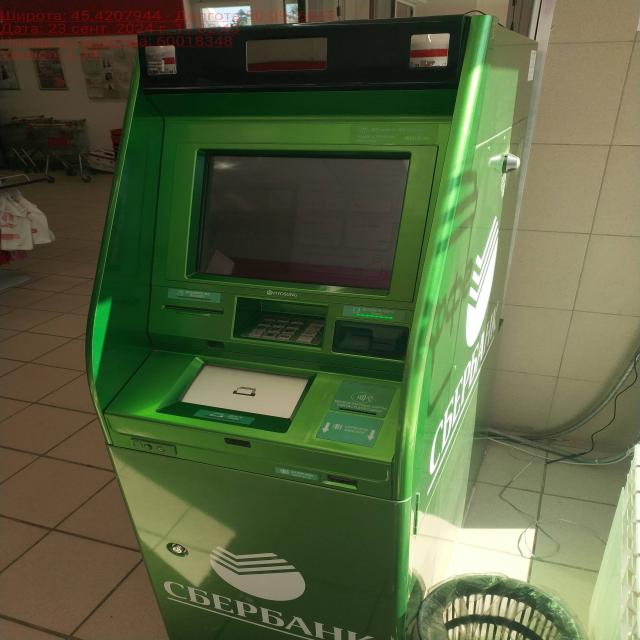bank: (85, 19, 541, 640)
